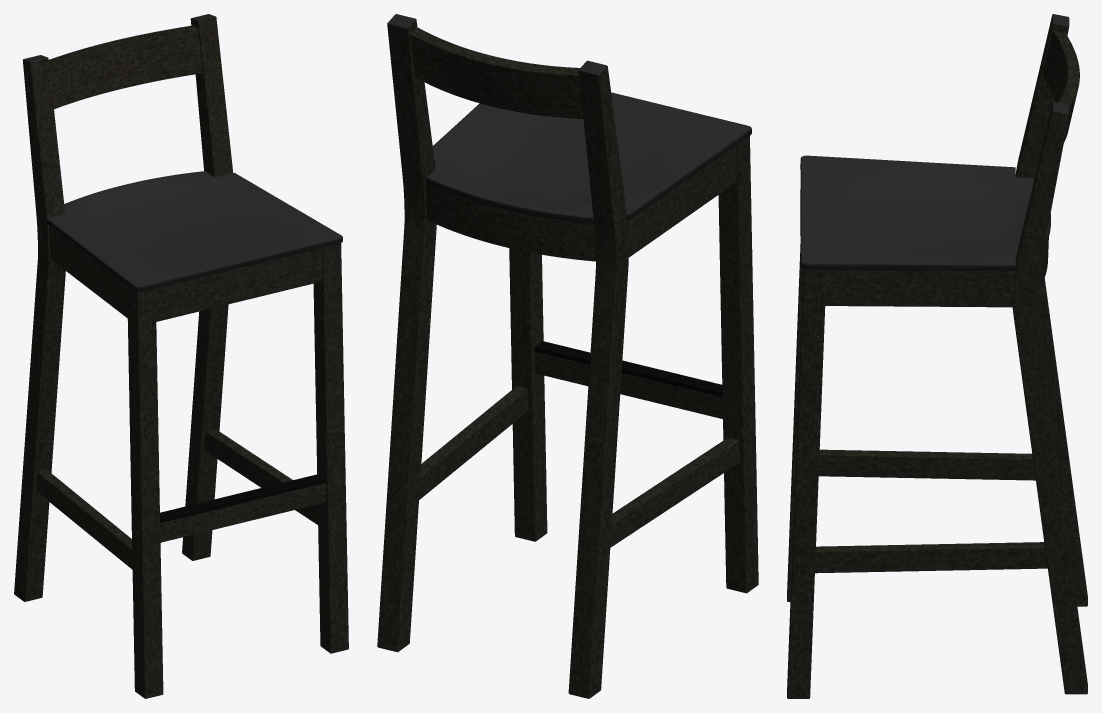
Rendered from 07 - NORDVIKEN Bar stool with backrest - black 75 cm.glb.
3 renders of one model, left to right at view 1: azimuth 30°, elevation 25°; view 2: azimuth 150°, elevation 25°; view 3: azimuth 270°, elevation 25°, orthographic. The views are drawn at different scales.
Parts seen in each view (by area): view 1: Mesh_0; view 2: Mesh_0; view 3: Mesh_0.
Part boxes in pixels (x1,y1,x2,y2): Mesh_0: (14, 14, 348, 698); Mesh_0: (377, 14, 758, 698); Mesh_0: (787, 14, 1087, 698).
Size of the model in its own units: 0.4025 by 1.01 by 0.4697.
1 material, 1 textured.
